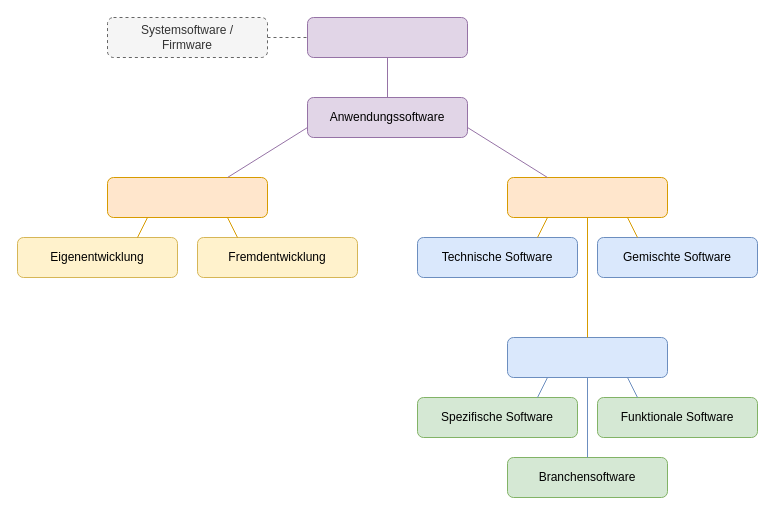
Some shapes in this 775 by 515 pixel diagram are drawn without their labels. The centre of each missing label's shape, as x and y in pixels:
"Geschäftsanwenungen" goes at (587,357).
"Individualsoftware" goes at (187,197).
"Software" goes at (387,37).
"Standardsoftware" goes at (587,197).
